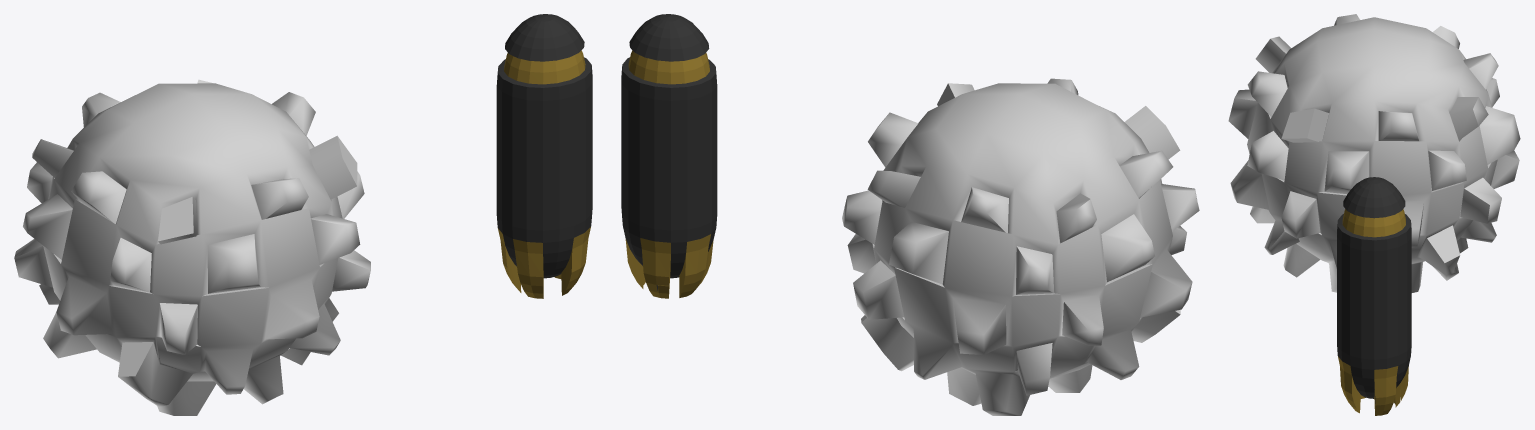
Rendered from basis mijn en onderzeeër.fbx.
3 views of the same model, side by side, from view 1: azimuth 30°, elevation 25°; view 2: azimuth 150°, elevation 25°; view 3: azimuth 270°, elevation 25° (orthographic). The views are drawn at different scales.
Visible parts, largest first — view 1: basismijn, basisbullet; view 2: basismijn, basisbullet; view 3: basismijn, basisbullet.
Boxes of the visible parts, x1,y1,x2,y2 form: basismijn: (14,79,370,415); basisbullet: (496,14,592,298); basismijn: (842,78,1199,415); basisbullet: (621,14,717,298); basismijn: (1228,14,1520,292); basisbullet: (1337,177,1411,415).
Size of the model in its own units: 413 by 220 by 229.
